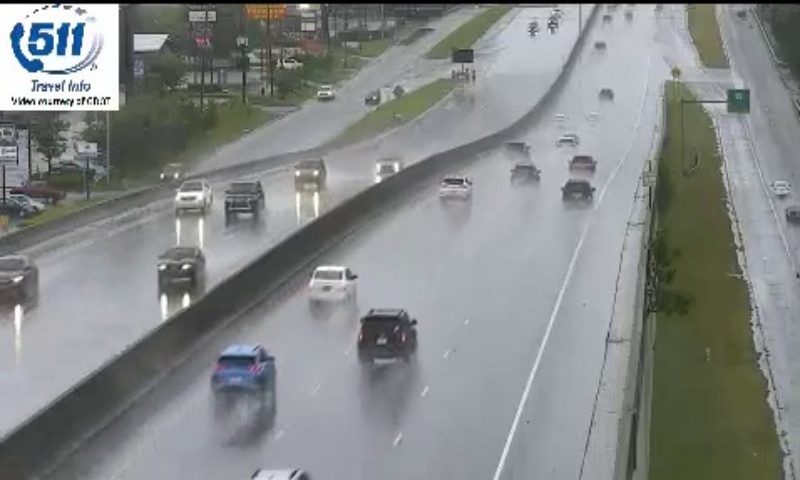car: (209, 346, 276, 393), (358, 308, 416, 360), (306, 264, 356, 302), (561, 179, 595, 209), (438, 175, 470, 200), (568, 156, 598, 179), (510, 162, 540, 185)
